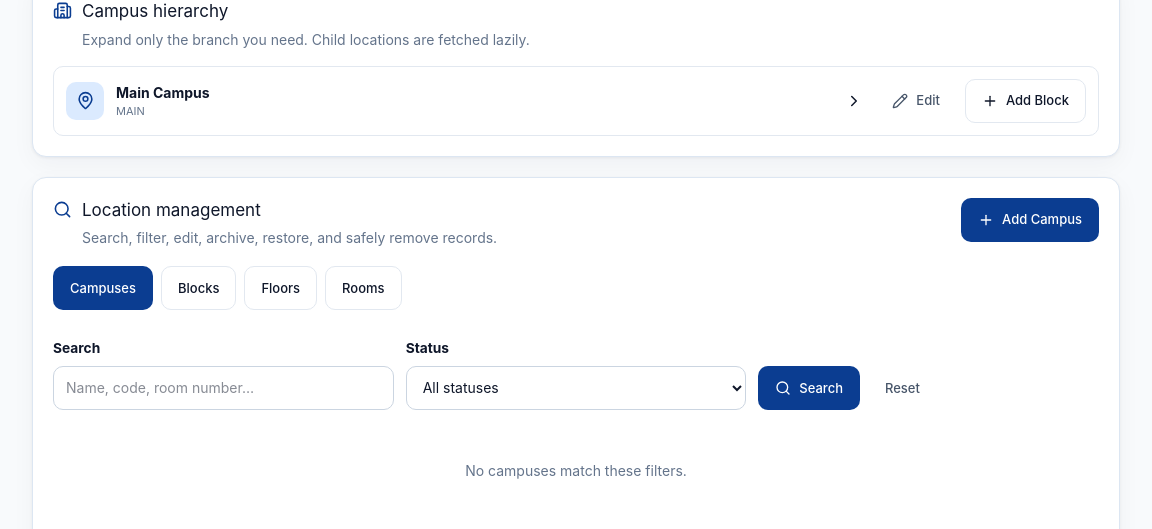
Test case: LocationsAdminPage › displays the configured OTHER label in the hierarchy and room list
Click the button with aria-label "Expand Main Campus". click: point(85, 100)
box: [66,78,863,122]
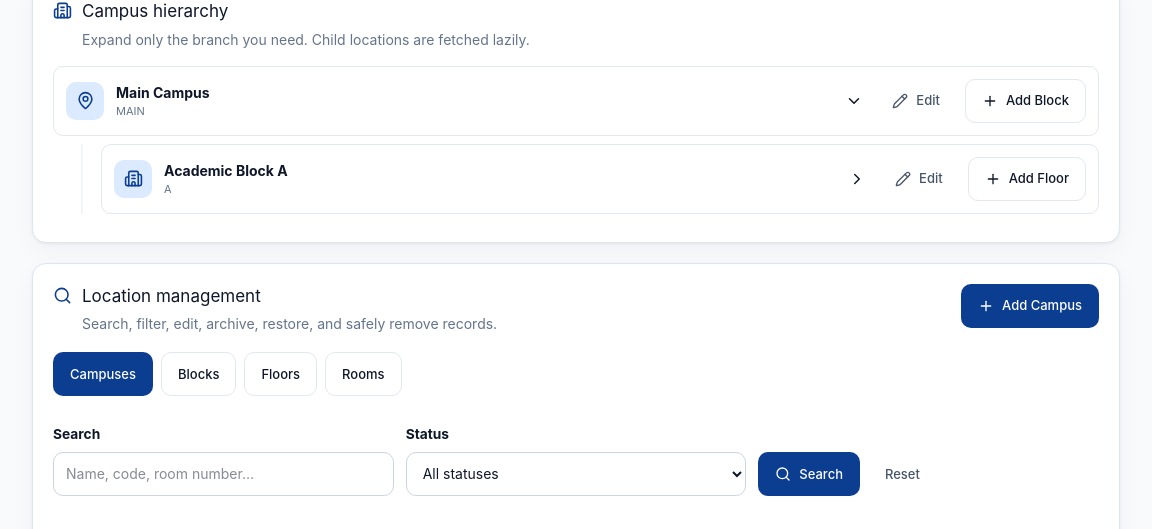
Click the button with aria-label "Expand Academic Block A". click: point(133, 178)
box: [114,156,866,200]
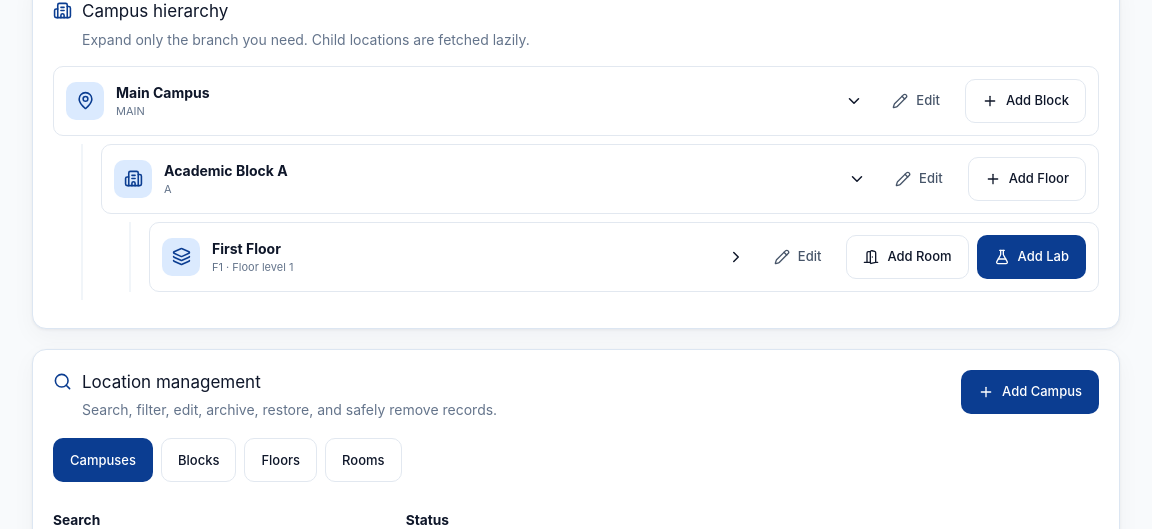
Click the button with aria-label "Expand First Floor". click: point(181, 256)
box: [162,234,745,278]
(page scrolled)
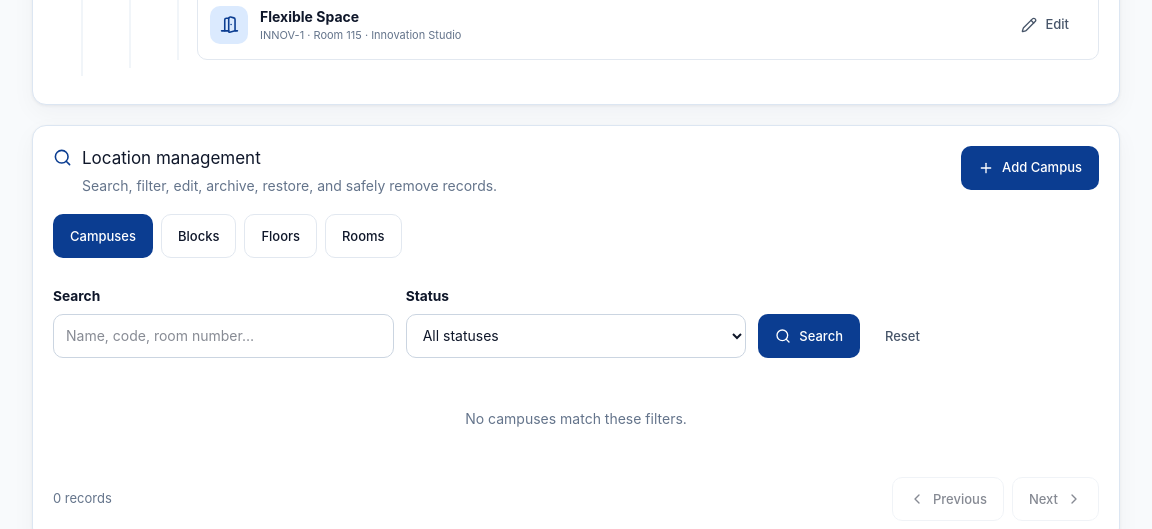
Expected: the text "INNOV-1 · Room 115 · Innovation Studio" is shown, [260,28,461,42]
Click the tab "Rooms". click: point(363, 236)
box: [325,214,402,258]
(page scrolled)
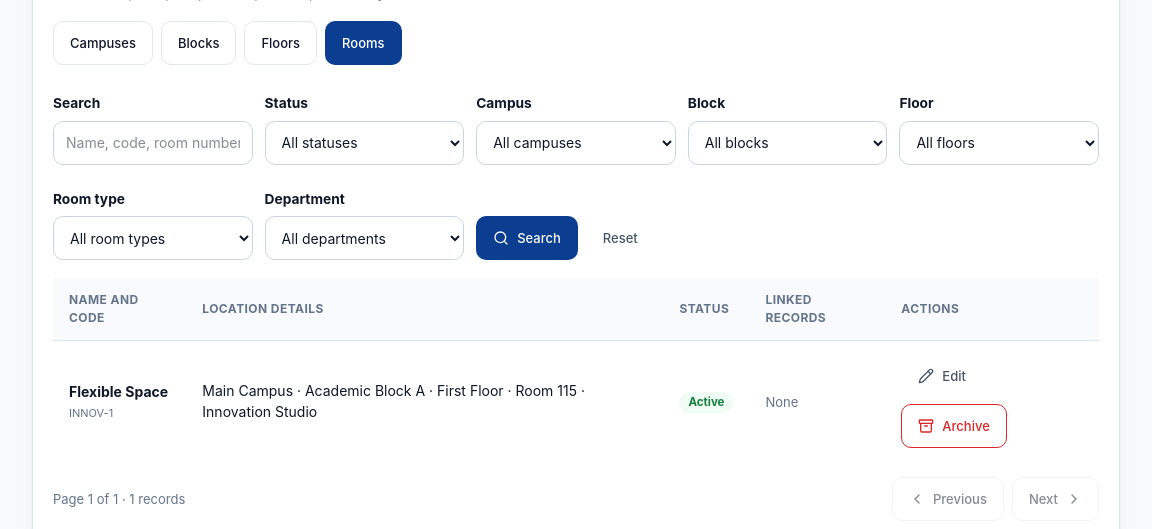
Expected: the text "Innovation Studio" is shown, [202,382,585,420]
